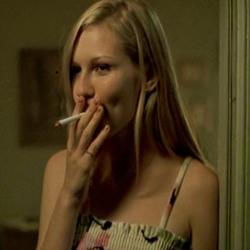smoking: (52, 110, 100, 129)
